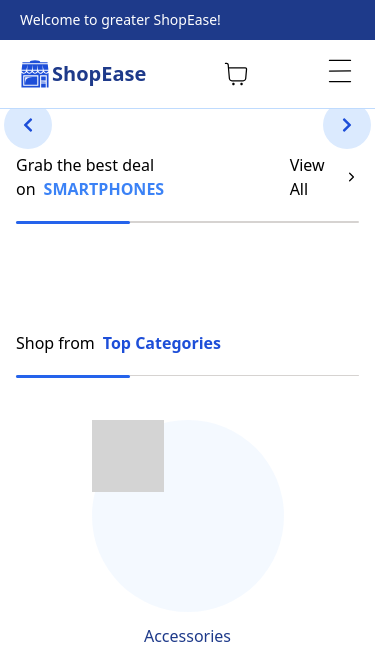
Test: Navigation › should be responsive on mobile
The image size is (375, 667).
Click the button with test id "mobile-menu" at {"x": 340, "y": 71}, box [325,56,355,86]
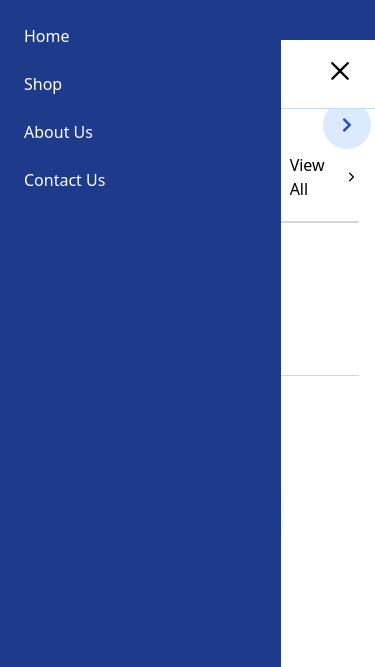
Check: the element with test id "mobile-nav" is shown
